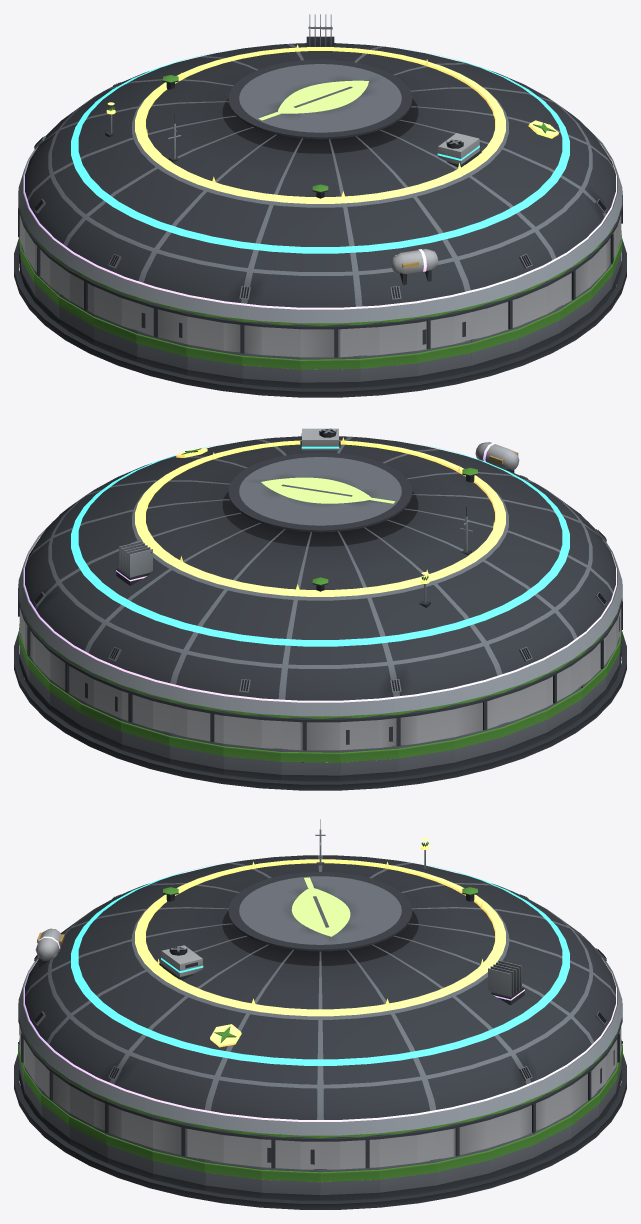
Rendered from fungus_farm_xl_far.glb.
3 renders of one model, top to bottom at view 1: azimuth 30°, elevation 25°; view 2: azimuth 150°, elevation 25°; view 3: azimuth 270°, elevation 25°, orthographic.
Parts seen in each view (by area): view 1: Roof, Base, L2, L5, L3, L4; view 2: Roof, Base, L2, L3, L5, L4; view 3: Roof, Base, L2, L5, L3, L4.
Boxes of the visible parts, box(x1,y1,x2,y2) form: Roof: box(18, 43, 622, 357); Base: box(14, 231, 626, 397); L2: box(18, 114, 622, 323); L5: box(105, 44, 558, 203); L3: box(71, 48, 569, 253); L4: box(24, 14, 616, 309); Roof: box(18, 436, 622, 750); Base: box(14, 624, 626, 790); L2: box(18, 507, 622, 716); L3: box(71, 428, 569, 646); L5: box(135, 437, 505, 607); L4: box(24, 442, 616, 702); Roof: box(18, 855, 622, 1169); Base: box(14, 1039, 626, 1209); L2: box(18, 819, 622, 1135); L5: box(135, 838, 505, 1047); L3: box(71, 860, 569, 1065); L4: box(24, 928, 616, 1121).
Bounding box in the file's own units: 23.15 × 7.91 × 23.15.
